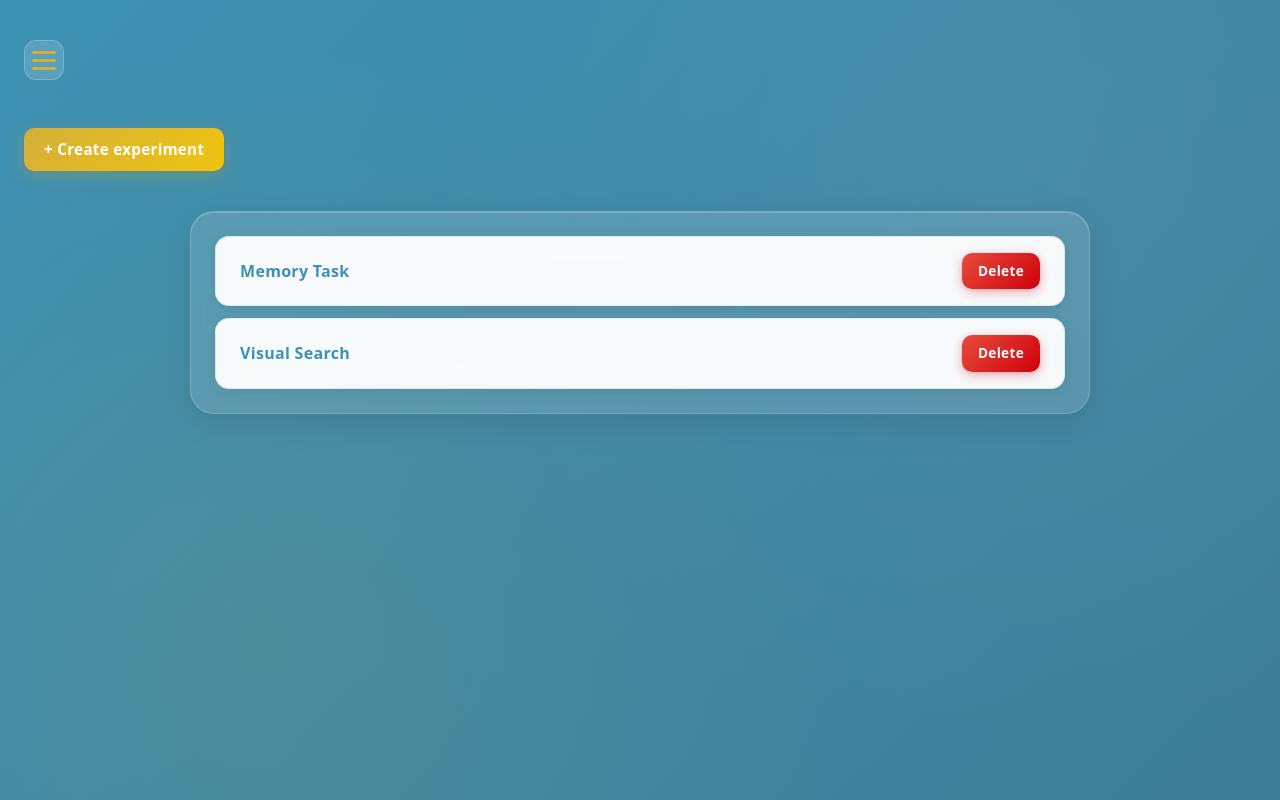
Test case: Dashboard › creates an experiment from the prompt modal and appends it to the list
The width and height of the screenshot is (1280, 800).
Expected: the text "Memory Task" is shown, top-left (240, 260), bottom-right (350, 282)
Click the button "+ Create experiment": click(124, 149) top-left (24, 128), bottom-right (224, 171)
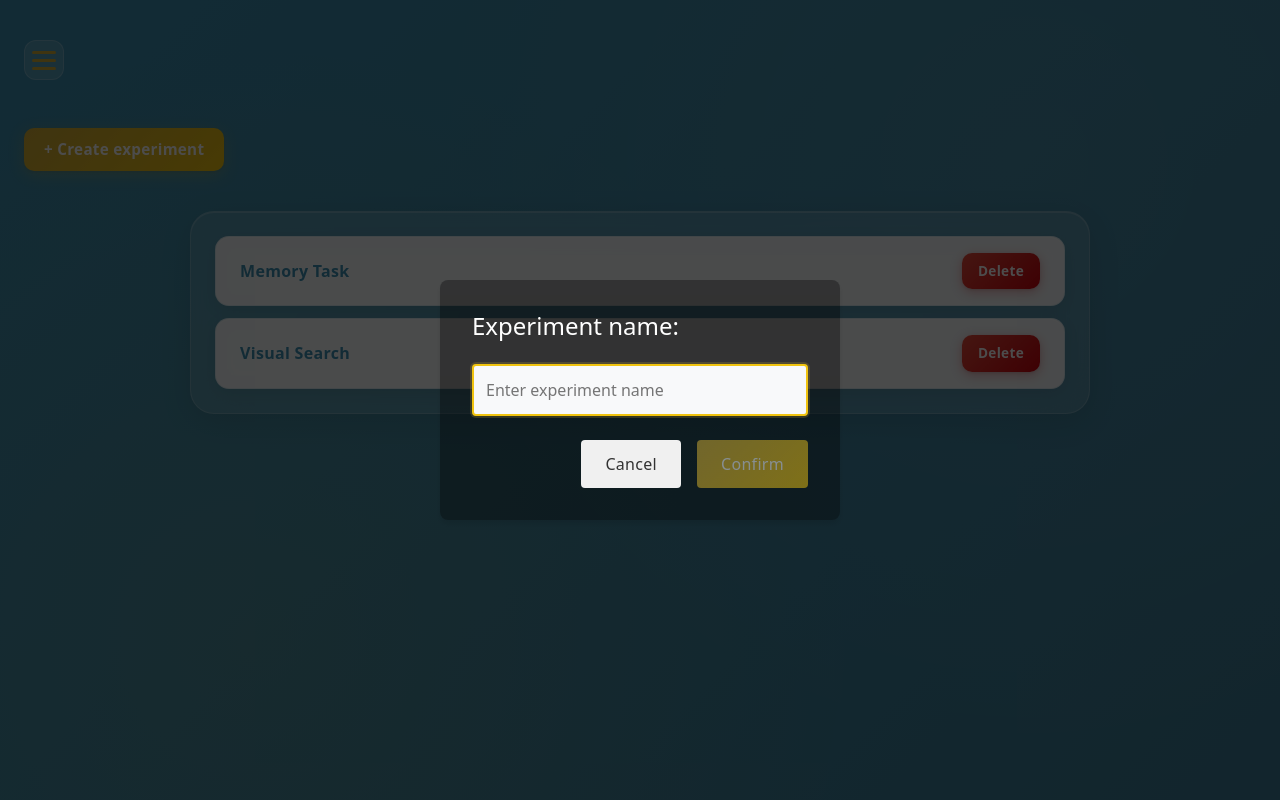
In the field with placeholder "Enter experiment name": (640, 390) top-left (472, 364), bottom-right (808, 416), type "  New Study  "
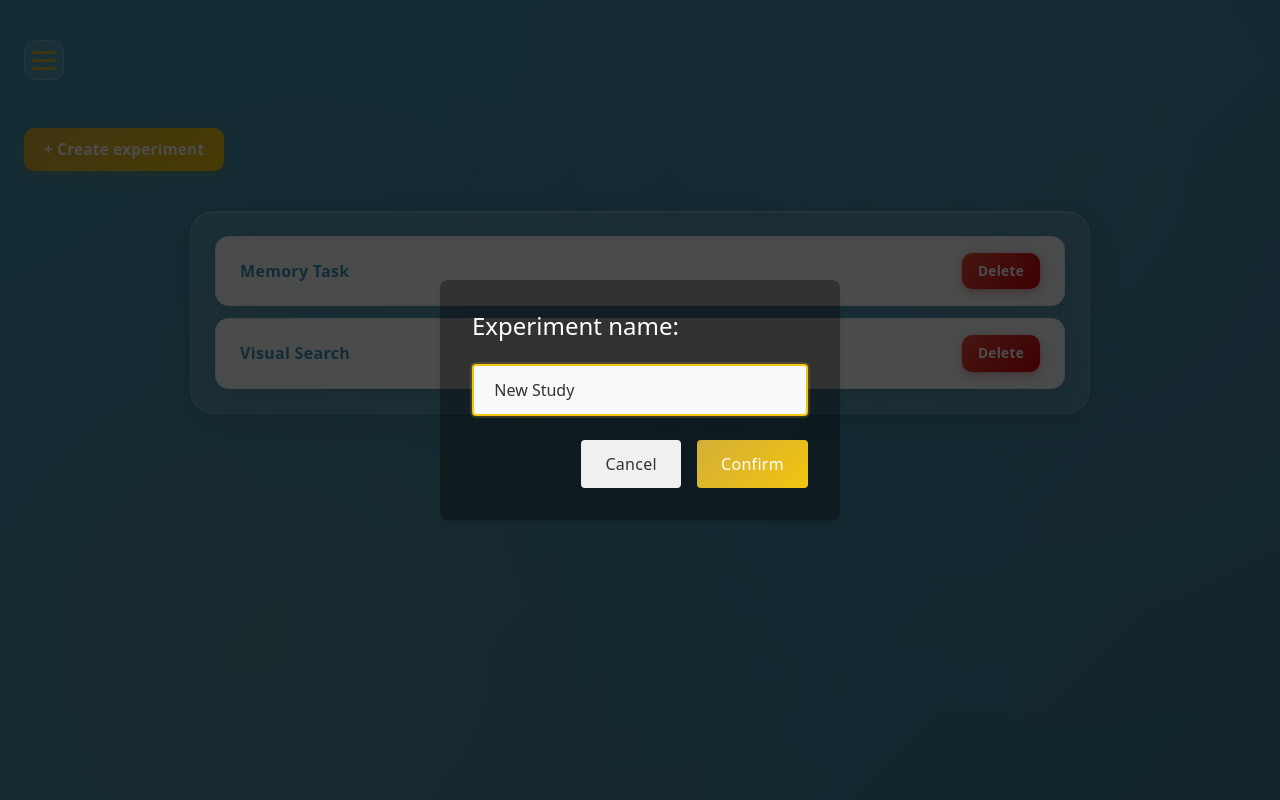
Click the button "Confirm": click(752, 464) top-left (697, 440), bottom-right (808, 488)
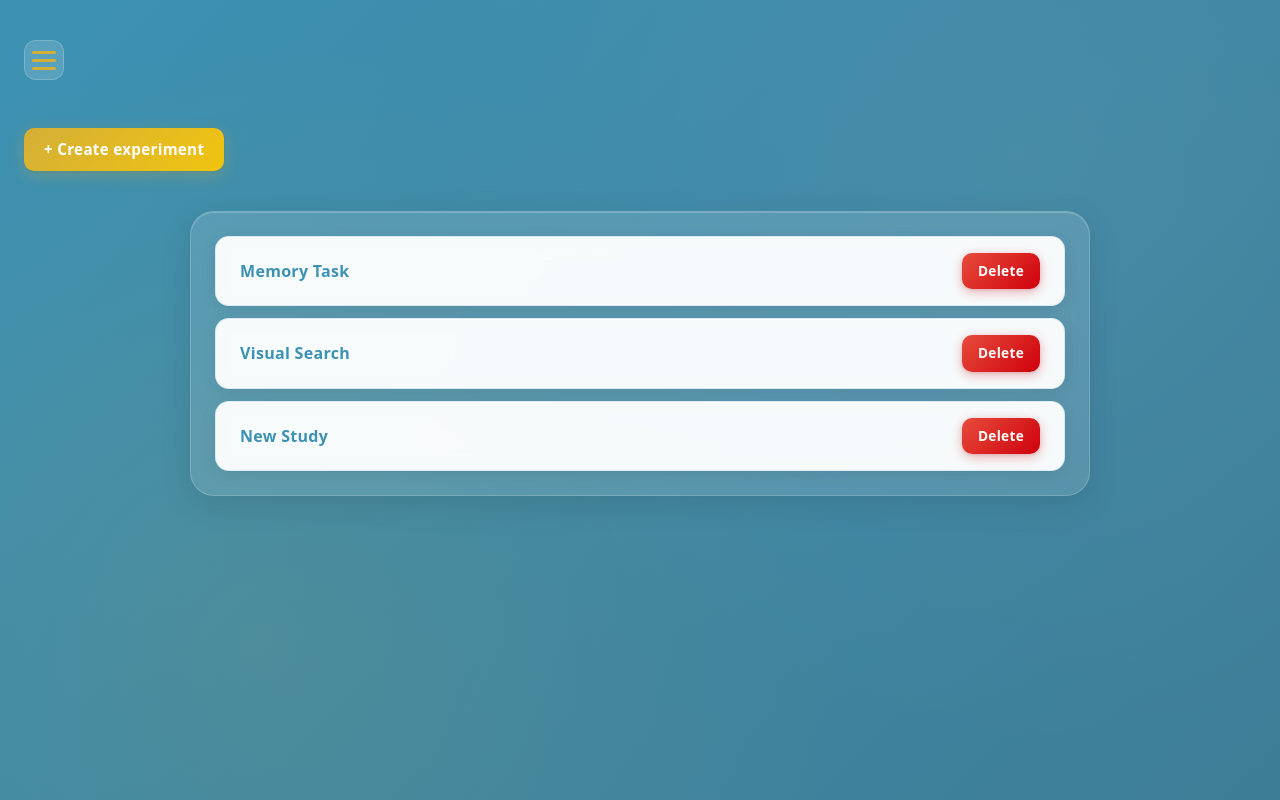
Expected: the text "New Study" is shown, top-left (240, 425), bottom-right (328, 447)
